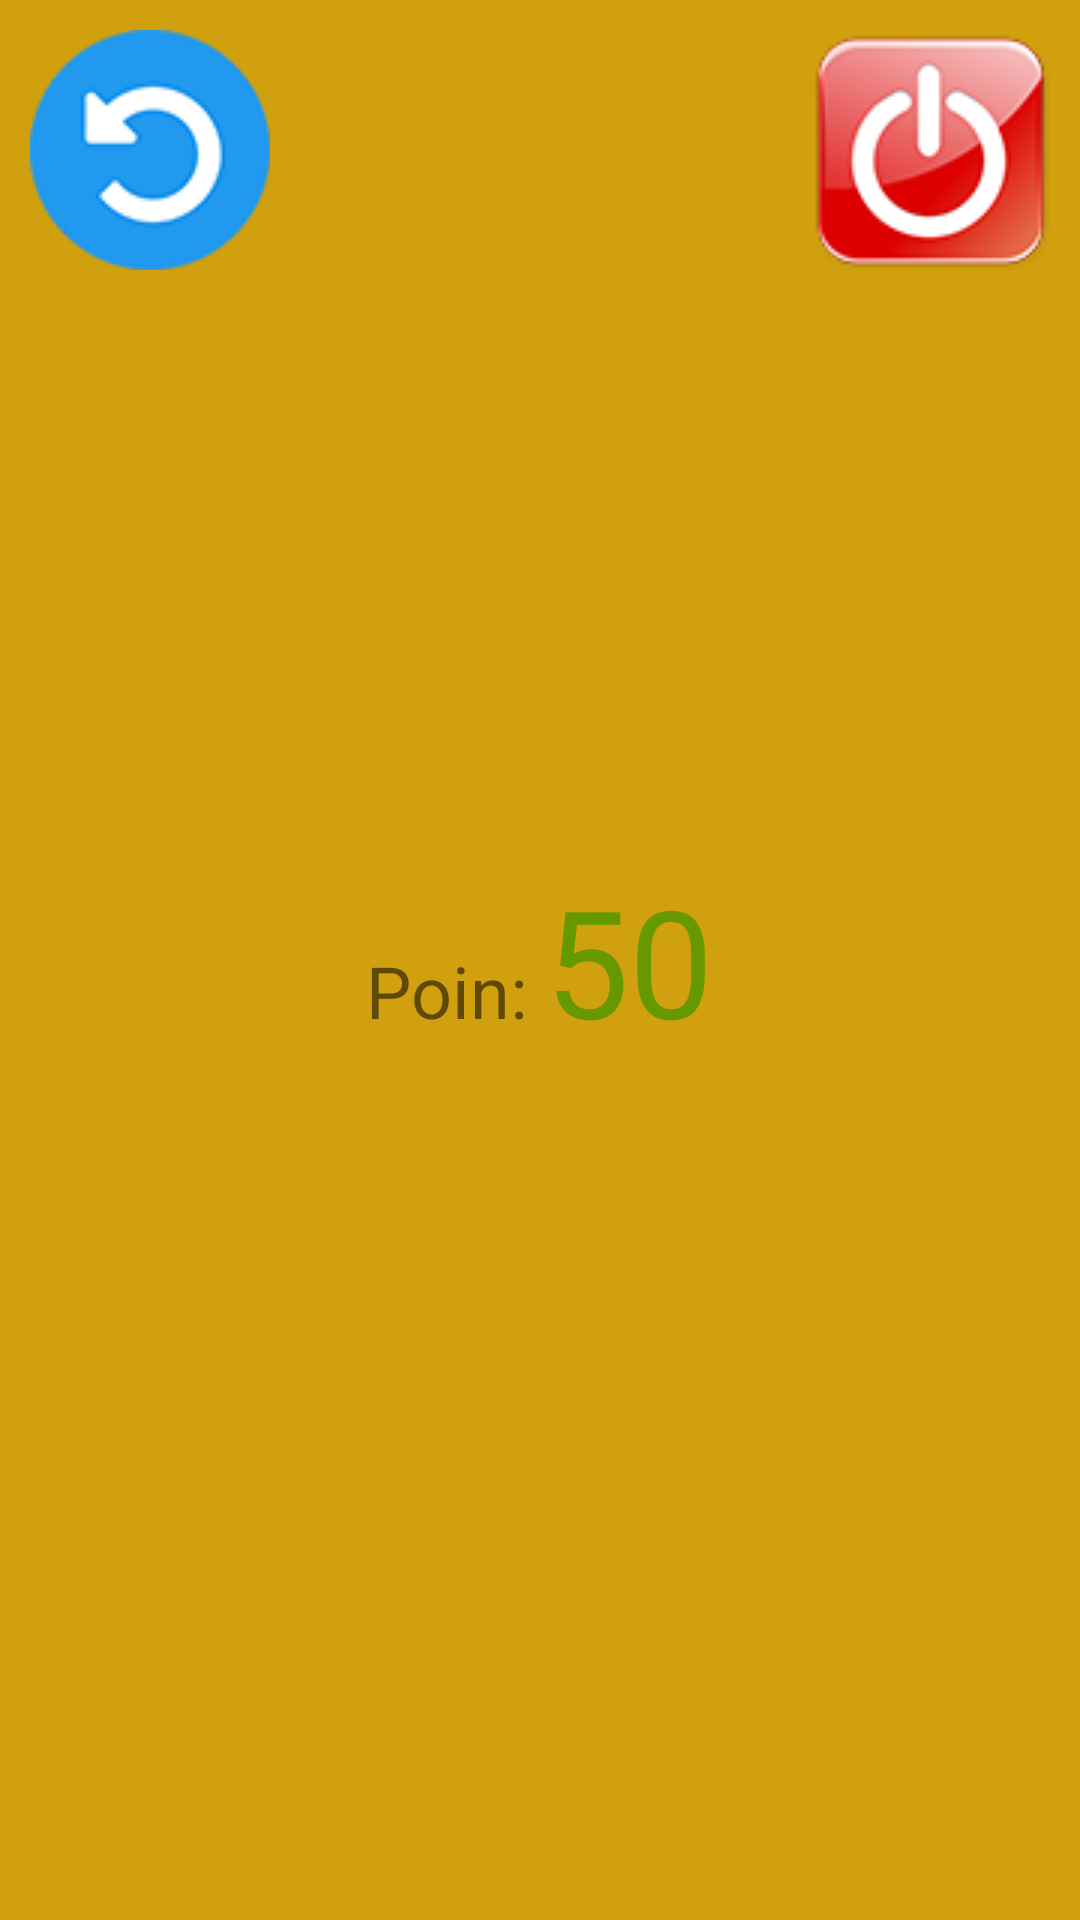

Icons on this 1080*1920 Android screen, each with the point to tap as [x,y]:
exit: [930,151]
restart: [150,150]
